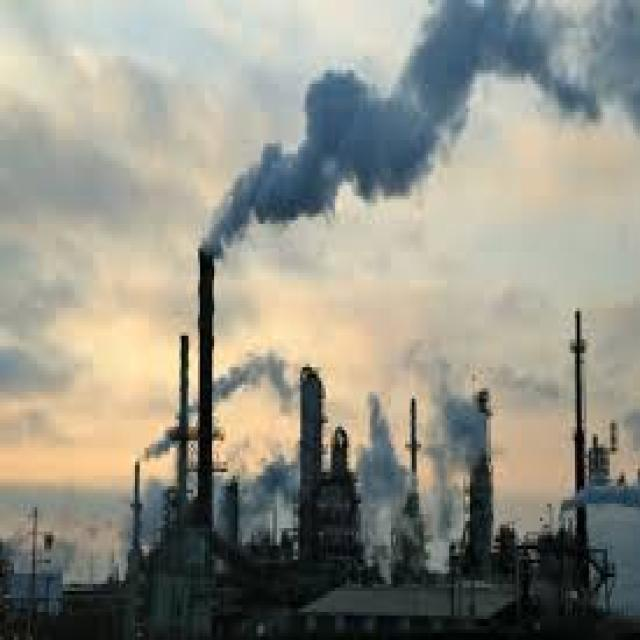Smoke: (199, 0, 640, 261), (143, 337, 489, 586)
